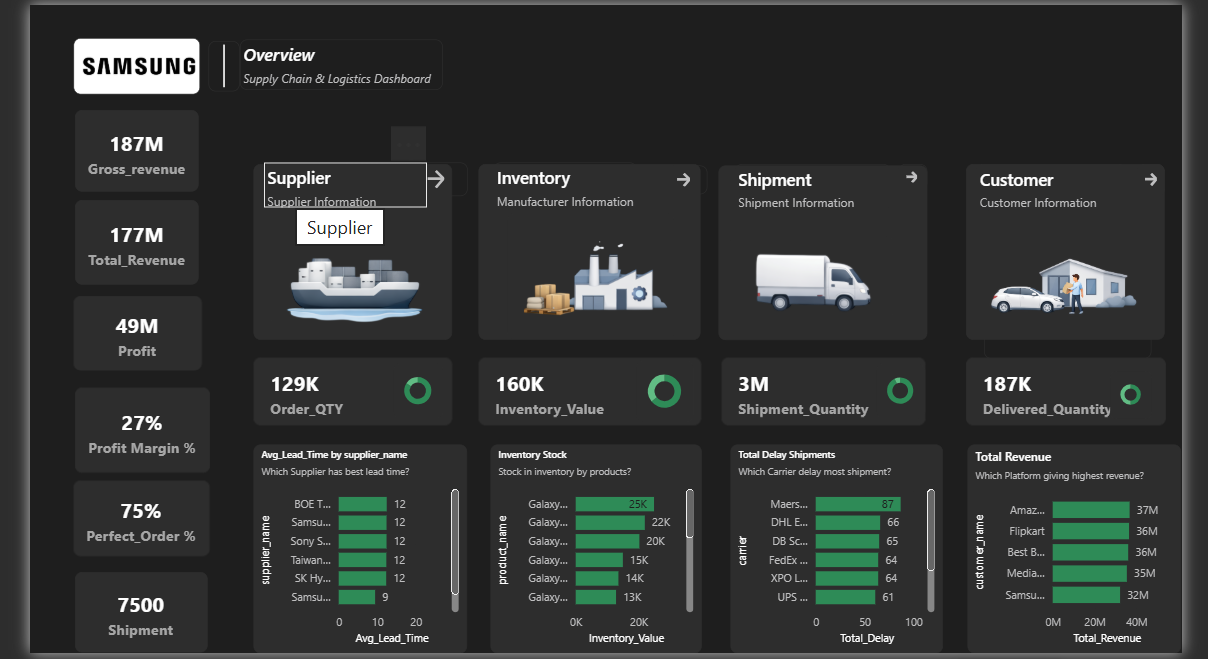

The dashboard page shown, as its layout file describes it:
{"tool":"powerbi","page":{"name":"Page 1","canvas":[1280,720],"ordinal":0},"visuals":[{"type":"shape","box":[247.9,176.4,220.3,195.1],"z":0},{"type":"shape","box":[498.7,176.4,246.9,195.1],"z":1000},{"type":"shape","box":[764.2,177.7,232.3,193.8],"z":2000},{"type":"shape","box":[1040.3,176.4,220.3,195.1],"z":3000},{"type":"image","box":[269.1,258.7,177.9,99.6],"z":4000},{"type":"image","box":[529.2,232.1,185.8,139.4],"z":5000},{"type":"image","box":[778.8,256,180.5,94.2],"z":6000},{"type":"image","box":[1060.5,228.3,185.8,164.6],"z":7000},{"type":"actionButton","box":[431,175.1,54.4,37.2],"z":8000},{"type":"actionButton","box":[709.8,177.7,42.5,31.9],"z":9000},{"type":"actionButton","box":[964.6,176.4,31.9,29.2],"z":10000},{"type":"actionButton","box":[1230.1,176.4,30.5,35.8],"z":11000},{"type":"shape","title":"Supplier","box":[259.8,175.1,181.8,50.4],"z":12000},{"type":"shape","title":"Inventory","box":[514.6,175.1,159.3,57.1],"z":13000},{"type":"shape","title":"Shipment","box":[782.8,176.4,172.6,50.4],"z":14000},{"type":"shape","title":"Customer","box":[1050.9,176.4,165.9,57.1],"z":15000},{"type":"shape","title":"Overview","box":[233.6,38.5,225.6,55.7],"z":16000},{"type":"shape","box":[199.1,39.8,34.5,55.7],"z":17000},{"type":"image","box":[49.1,35.8,140.7,62.4],"z":18000},{"type":"advanceCardE03760C5AB684758B56AA29F9E6C257B","fields":{"mainMeasure":["MeasuresTable.Total_Revenue"]},"box":[50.1,215.9,137.6,93.8],"z":19000},{"type":"advanceCardE03760C5AB684758B56AA29F9E6C257B","fields":{"mainMeasure":["MeasuresTable.Total_Shipment"]},"box":[50.1,630.4,147,89.2],"z":20000},{"type":"advanceCardE03760C5AB684758B56AA29F9E6C257B","fields":{"mainMeasure":["MeasuresTable.Perfect_Order %"]},"box":[48.4,529.1,151,84.2],"z":21000},{"type":"advanceCardE03760C5AB684758B56AA29F9E6C257B","fields":{"mainMeasure":["MeasuresTable.Profit Margin %"]},"box":[49.6,424.2,149.9,94.5],"z":22000},{"type":"advanceCardE03760C5AB684758B56AA29F9E6C257B","fields":{"mainMeasure":["MeasuresTable.Profit"]},"box":[48.5,323.8,142.3,82.9],"z":23000},{"type":"advanceCardE03760C5AB684758B56AA29F9E6C257B","fields":{"mainMeasure":["Sum(fact_sales.gross_revenue)"]},"box":[50.1,117.3,137.6,90.7],"z":24000},{"type":"advanceCardE03760C5AB684758B56AA29F9E6C257B","fields":{"tooltipMeasures":["MeasuresTable.Order_QTY"],"mainMeasure":["MeasuresTable.Order_QTY"]},"box":[248.2,391.2,220.5,75.1],"z":25000},{"type":"advanceCardE03760C5AB684758B56AA29F9E6C257B","fields":{"tooltipMeasures":["MeasuresTable.Order_QTY"],"mainMeasure":["MeasuresTable.Inventory_Value"]},"box":[498.5,391.2,247.1,75.1],"z":26000},{"type":"advanceCardE03760C5AB684758B56AA29F9E6C257B","fields":{"tooltipMeasures":["MeasuresTable.Order_QTY"],"mainMeasure":["MeasuresTable.Total_Shipment_Quantity"]},"box":[769.1,391.2,226.8,75.1],"z":27000},{"type":"advanceCardE03760C5AB684758B56AA29F9E6C257B","fields":{"tooltipMeasures":["MeasuresTable.Order_QTY"],"mainMeasure":["MeasuresTable.Total_Delivered_Quantity"]},"box":[1039.7,391.2,222.1,75.1],"z":28000},{"type":"clusteredBarChart","fields":{"Y":["MeasuresTable.Avg_Lead_Time"],"Category":["dim_supplier.supplier_name"]},"box":[248.2,488.5,237.6,232.3],"z":29000},{"type":"clusteredBarChart","title":"Inventory Stock","fields":{"Y":["MeasuresTable.Inventory_Value"],"Category":["dim_product.product_name"]},"box":[511,488.5,234.9,232.3],"z":30000},{"type":"clusteredBarChart","title":"Total Delay Shipments ","fields":{"Category":["fact_shipment.carrier"],"Y":["MeasuresTable.Total_Delay"]},"box":[777.8,488.5,236.3,232.3],"z":31000},{"type":"clusteredBarChart","title":"Total Revenue","fields":{"Y":["MeasuresTable.Total_Revenue"],"Category":["dim_customer.customer_name"]},"box":[1042,488.5,237.6,232.3],"z":32000},{"type":"donutChart","fields":{"Y":["MeasuresTable.Inventory_Value","MeasuresTable.Safety_Stock"]},"box":[674.2,394.2,64.1,68.8],"z":33000},{"type":"donutChart","fields":{"Y":["MeasuresTable.Total_Shipment","MeasuresTable.Total_Delay"]},"box":[939.8,398.2,54.4,61.1],"z":34000},{"type":"donutChart","fields":{"Y":["MeasuresTable.Total_Delivered_Quantity","MeasuresTable.Total_QTY_Delay"]},"box":[1199.9,406.2,46.5,53.1],"z":35000},{"type":"donutChart","fields":{"Y":["MeasuresTable.Order_QTY","MeasuresTable.Defect_Rate"]},"box":[403.5,398.2,55.7,61.1],"z":36000}]}

Visuals, with their boxes on the page's 1280x720 design canvas (x1, y1, x2, y2). These are canvas units, not pixel positions in the 1208x659 screenshot, which may show the page scaled, cropped or inside an application window:
shape: bbox=[248, 176, 468, 372]
shape: bbox=[499, 176, 746, 372]
shape: bbox=[764, 178, 996, 372]
shape: bbox=[1040, 176, 1261, 372]
image: bbox=[269, 259, 447, 358]
image: bbox=[529, 232, 715, 372]
image: bbox=[779, 256, 959, 350]
image: bbox=[1060, 228, 1246, 393]
actionButton: bbox=[431, 175, 485, 212]
actionButton: bbox=[710, 178, 752, 210]
actionButton: bbox=[965, 176, 996, 206]
actionButton: bbox=[1230, 176, 1261, 212]
"Supplier" shape: bbox=[260, 175, 442, 226]
"Inventory" shape: bbox=[515, 175, 674, 232]
"Shipment" shape: bbox=[783, 176, 955, 227]
"Customer" shape: bbox=[1051, 176, 1217, 234]
"Overview" shape: bbox=[234, 38, 459, 94]
shape: bbox=[199, 40, 234, 96]
image: bbox=[49, 36, 190, 98]
advanceCardE03760C5AB684758B56AA29F9E6C257B - MeasuresTable.Total_Revenue: bbox=[50, 216, 188, 310]
advanceCardE03760C5AB684758B56AA29F9E6C257B - MeasuresTable.Total_Shipment: bbox=[50, 630, 197, 720]
advanceCardE03760C5AB684758B56AA29F9E6C257B - MeasuresTable.Perfect_Order %: bbox=[48, 529, 199, 613]
advanceCardE03760C5AB684758B56AA29F9E6C257B - MeasuresTable.Profit Margin %: bbox=[50, 424, 200, 519]
advanceCardE03760C5AB684758B56AA29F9E6C257B - MeasuresTable.Profit: bbox=[48, 324, 191, 407]
advanceCardE03760C5AB684758B56AA29F9E6C257B - Sum(fact_sales.gross_revenue): bbox=[50, 117, 188, 208]
advanceCardE03760C5AB684758B56AA29F9E6C257B - MeasuresTable.Order_QTY x MeasuresTable.Order_QTY: bbox=[248, 391, 469, 466]
advanceCardE03760C5AB684758B56AA29F9E6C257B - MeasuresTable.Order_QTY x MeasuresTable.Inventory_Value: bbox=[498, 391, 746, 466]
advanceCardE03760C5AB684758B56AA29F9E6C257B - MeasuresTable.Order_QTY x MeasuresTable.Total_Shipment_Quantity: bbox=[769, 391, 996, 466]
advanceCardE03760C5AB684758B56AA29F9E6C257B - MeasuresTable.Order_QTY x MeasuresTable.Total_Delivered_Quantity: bbox=[1040, 391, 1262, 466]
clusteredBarChart - MeasuresTable.Avg_Lead_Time x dim_supplier.supplier_name: bbox=[248, 488, 486, 721]
"Inventory Stock" clusteredBarChart: bbox=[511, 488, 746, 721]
"Total Delay Shipments " clusteredBarChart: bbox=[778, 488, 1014, 721]
"Total Revenue" clusteredBarChart: bbox=[1042, 488, 1280, 721]
donutChart - MeasuresTable.Inventory_Value x MeasuresTable.Safety_Stock: bbox=[674, 394, 738, 463]
donutChart - MeasuresTable.Total_Shipment x MeasuresTable.Total_Delay: bbox=[940, 398, 994, 459]
donutChart - MeasuresTable.Total_Delivered_Quantity x MeasuresTable.Total_QTY_Delay: bbox=[1200, 406, 1246, 459]
donutChart - MeasuresTable.Order_QTY x MeasuresTable.Defect_Rate: bbox=[404, 398, 459, 459]
